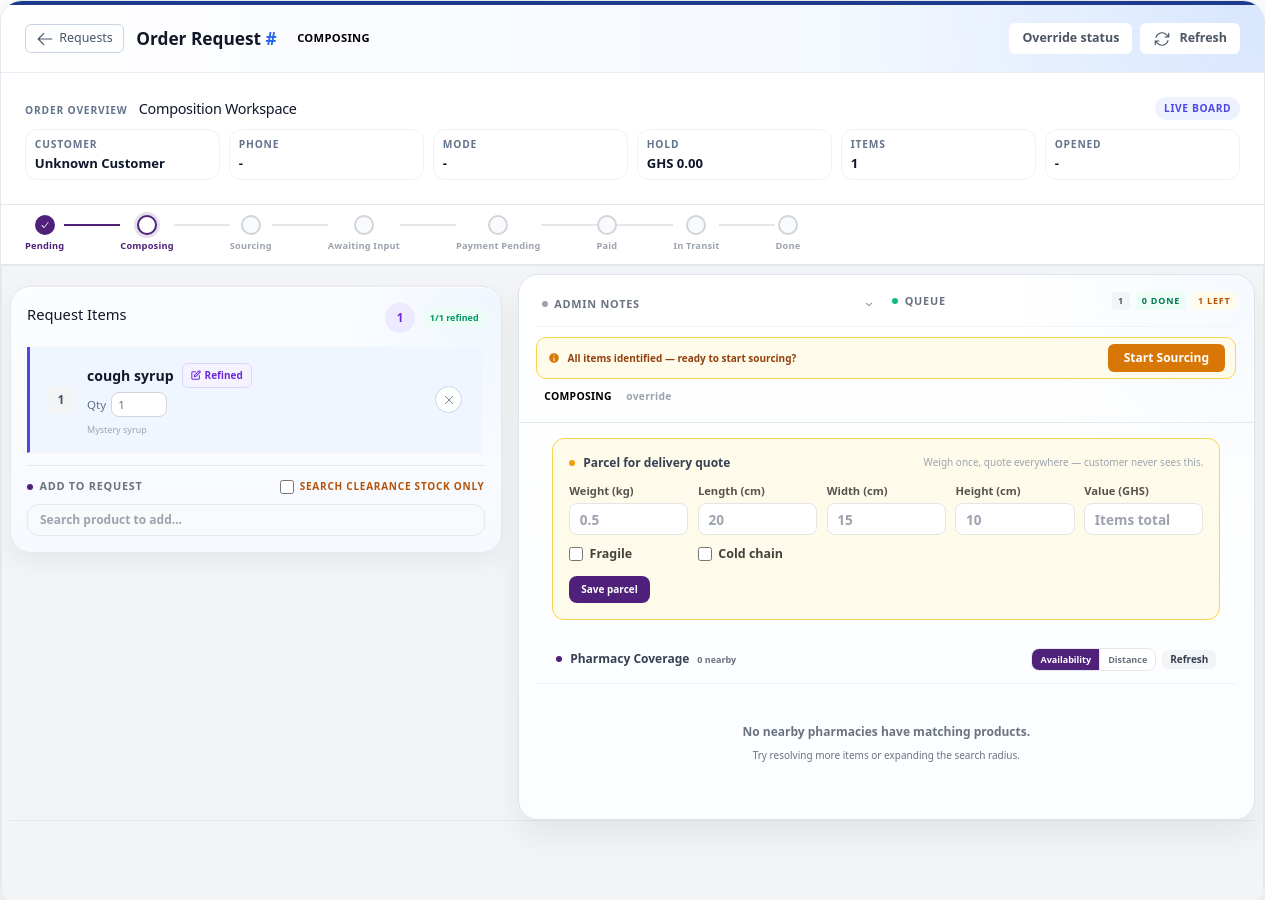
Test: identifying an item: opening and closing the box › starts with the existing override when there is one
The width and height of the screenshot is (1280, 900).
Click the button "Refined".
click(217, 376)  # box 182,363 -> 252,388
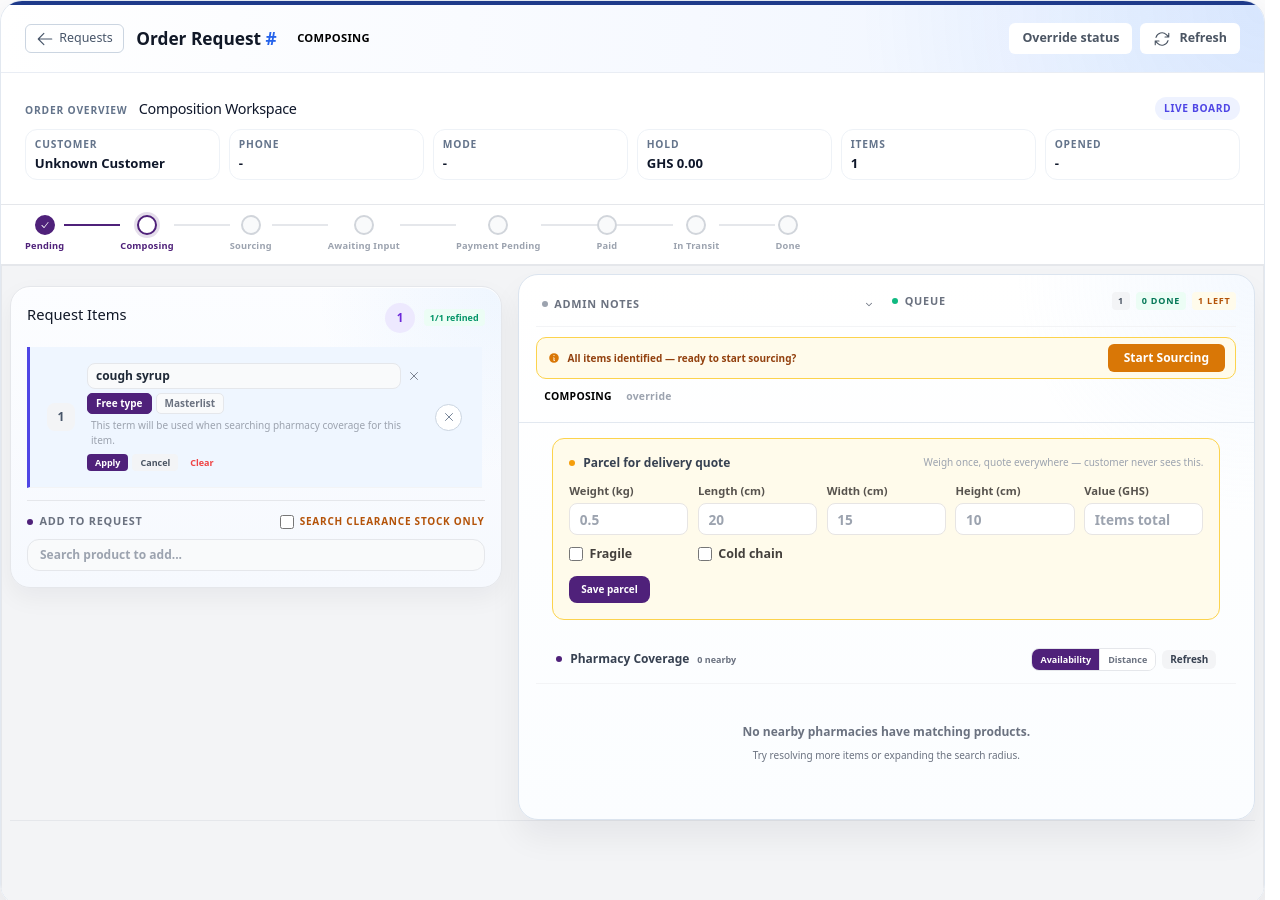
Check: the field with placeholder "Search master catalog..." holds "cough syrup", box 87,363 -> 401,389
